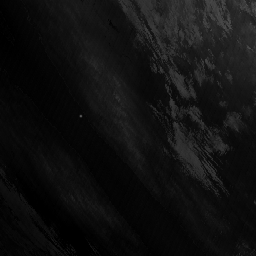Target: (77, 112, 83, 119)
